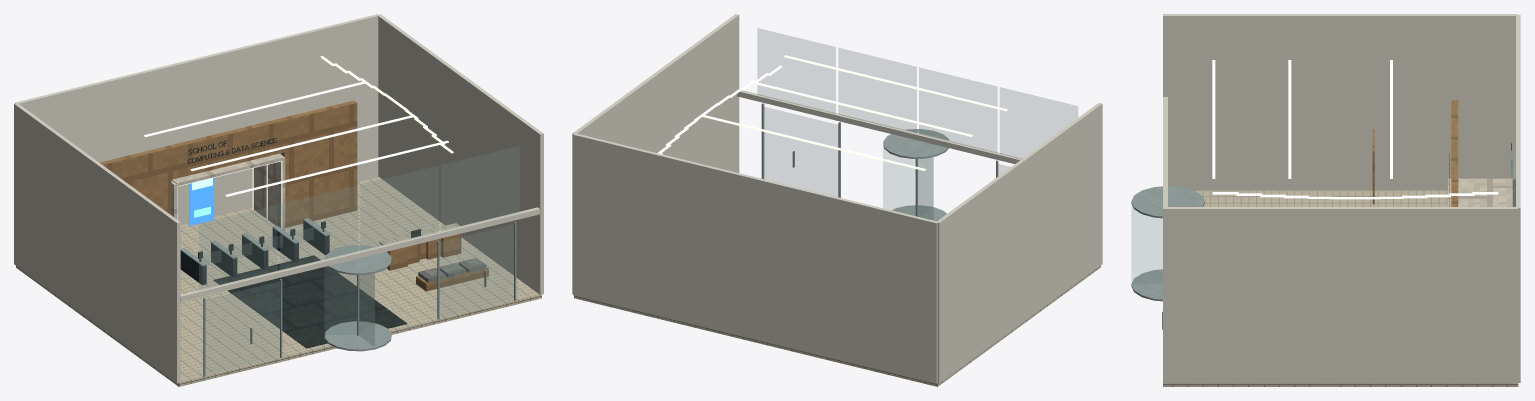
File: CDS1-Observed-Lobby.glb
3 renders of one model, left to right at view 1: azimuth 30°, elevation 25°; view 2: azimuth 150°, elevation 25°; view 3: azimuth 270°, elevation 25°, orthographic. The views are drawn at different scales.
Parts seen in each view (by area): view 1: Structure__Interior ivory wall, Lobby_floor, Upper_lobby_glazing (×4), Structure__Interior warm timber, Lobby_side_glass_door (×2), Entrance_black_mat, Doors_and_elevators__Interior aluminium, Revolving_door_leaf (×3), Ceiling_and_lights__Night_interior_LED, Structure__Interior satin portal metal, Lobby_upper_transom, Doors_and_elevators__Interior dark gate body (+4 smaller); view 2: Structure__Interior ivory wall, Upper_lobby_glazing (×4), Lobby_side_glass_door, Revolving_door_leaf (×3), Ceiling_and_lights__Night_interior_LED, Doors_and_elevators__Interior aluminium, Lobby_upper_transom, Lobby_floor; view 3: Structure__Interior ivory wall, Lobby_floor, Doors_and_elevators__Interior aluminium, Ceiling_and_lights__Night_interior_LED, Revolving_door_leaf, Structure__Interior satin portal metal, Structure__Interior warm timber, Lobby_upper_transom.
Part boxes in pixels (box(x1,y1,x2,y2)): Structure__Interior ivory wall: box(14, 14, 543, 383); Lobby_floor: box(16, 176, 541, 386); Upper_lobby_glazing (×4): box(199, 146, 519, 290); Structure__Interior warm timber: box(100, 100, 357, 227); Lobby_side_glass_door (×2): box(206, 225, 513, 374); Entrance_black_mat: box(213, 255, 407, 348); Doors_and_elevators__Interior aluminium: box(180, 153, 516, 376); Revolving_door_leaf (×3): box(324, 267, 374, 346); Ceiling_and_lights__Night_interior_LED: box(144, 56, 453, 228); Structure__Interior satin portal metal: box(171, 153, 285, 229); Lobby_upper_transom: box(180, 207, 539, 301); Doors_and_elevators__Interior dark gate body: box(180, 220, 329, 285); Structure__Interior ivory wall: box(572, 14, 1102, 383); Upper_lobby_glazing (×4): box(757, 28, 1077, 158); Lobby_side_glass_door: box(763, 107, 837, 196); Revolving_door_leaf (×3): box(883, 145, 933, 219); Ceiling_and_lights__Night_interior_LED: box(657, 55, 1007, 170); Doors_and_elevators__Interior aluminium: box(761, 103, 998, 221); Lobby_upper_transom: box(737, 90, 1022, 163); Lobby_floor: box(574, 265, 1100, 386); Structure__Interior ivory wall: box(1163, 14, 1520, 383); Lobby_floor: box(1163, 190, 1518, 386); Doors_and_elevators__Interior aluminium: box(1131, 150, 1515, 329); Ceiling_and_lights__Night_interior_LED: box(1212, 60, 1498, 199); Revolving_door_leaf: box(1131, 205, 1162, 283); Structure__Interior satin portal metal: box(1448, 178, 1512, 206); Structure__Interior warm timber: box(1451, 100, 1458, 206); Lobby_upper_transom: box(1163, 97, 1167, 206).
Size of the model in its own units: 18.18 by 7.78 by 15.34.
Materials: 14 (8 with a texture image).
